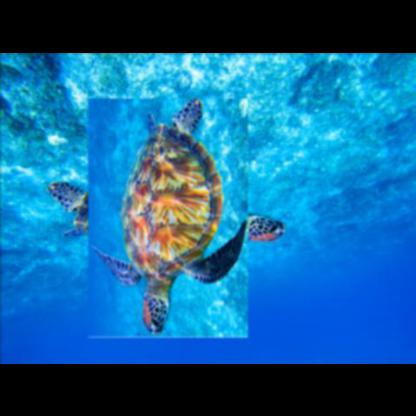turtle: (66, 116, 268, 316)
